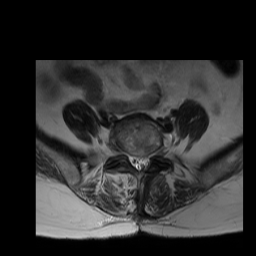CCS_normal: (136, 150, 143, 176)
LFS_stenosis: (149, 147, 155, 161)
LLS_normal: (144, 150, 149, 172)
RFS_stenosis: (122, 145, 129, 160)
RLS_normal: (128, 150, 136, 171)
